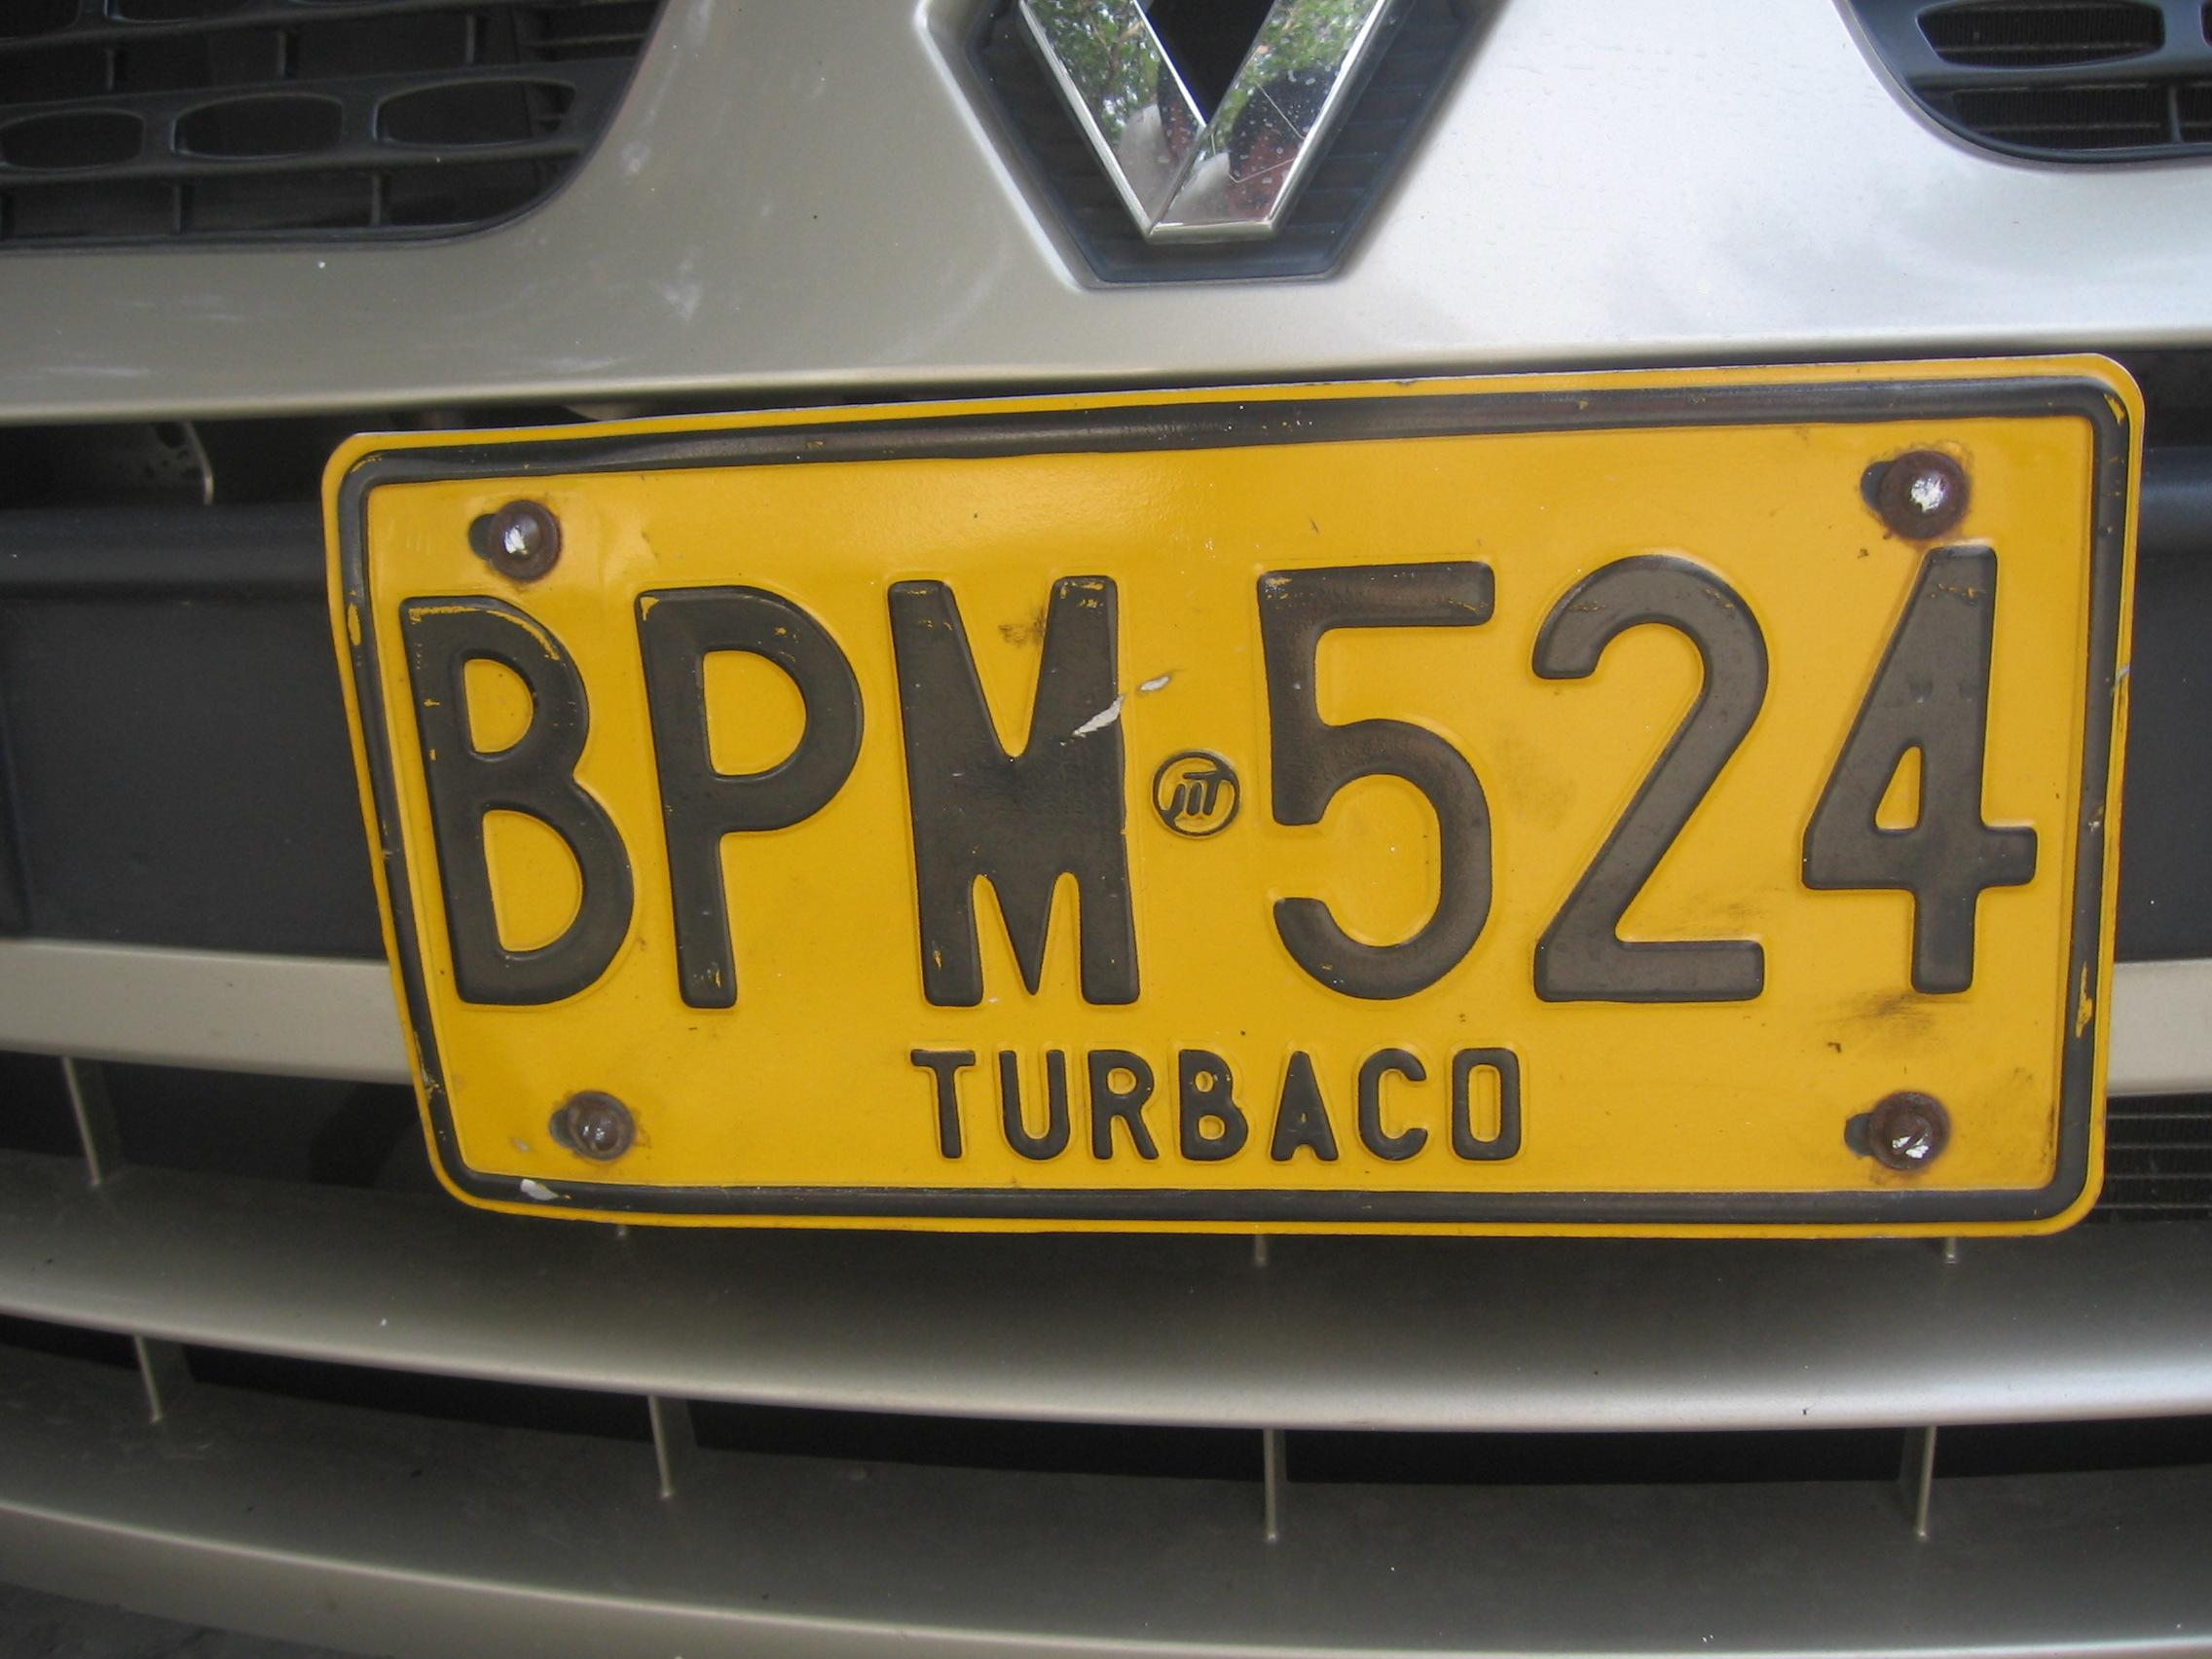placas: (307, 339, 2154, 1260)
